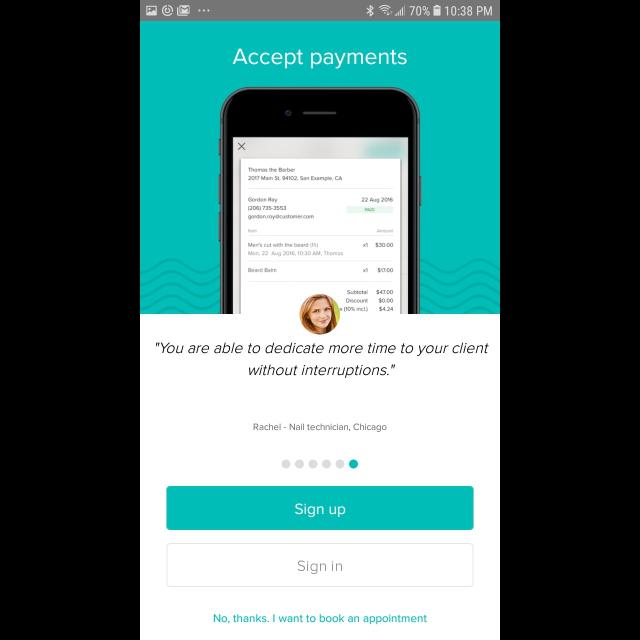image: (218, 88, 422, 314), (300, 294, 340, 334)
pageindicator: (282, 459, 358, 469)
text: (156, 342, 488, 378), (232, 49, 408, 70), (215, 614, 428, 624), (254, 423, 386, 433)
textbutton: (166, 543, 474, 587), (166, 486, 474, 530)
uppertaskbar: (140, 1, 500, 22)
